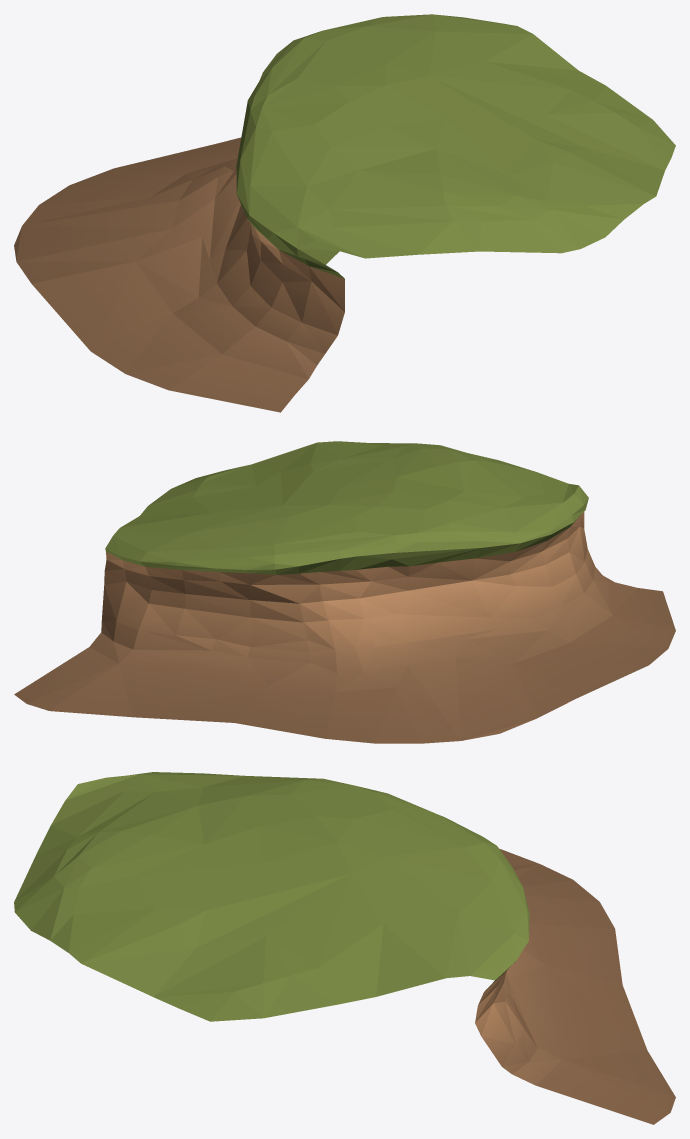
Rendered from Terrain_Cliff_Bend-01.FBX.
3 views of the same model, one above another, from view 1: azimuth 30°, elevation 25°; view 2: azimuth 150°, elevation 25°; view 3: azimuth 270°, elevation 25° (orthographic). The views are drawn at different scales.
Parts seen in each view (by area): view 1: Terrain_Cliff_Bend-01; view 2: Terrain_Cliff_Bend-01; view 3: Terrain_Cliff_Bend-01.
Part boxes in pixels (bbox=[...]): Terrain_Cliff_Bend-01: bbox=[14, 14, 675, 412]; Terrain_Cliff_Bend-01: bbox=[14, 441, 675, 743]; Terrain_Cliff_Bend-01: bbox=[14, 772, 675, 1124].
Bounding box in the file's own units: 4896 × 1424 × 4885.
1 material, 1 textured.
